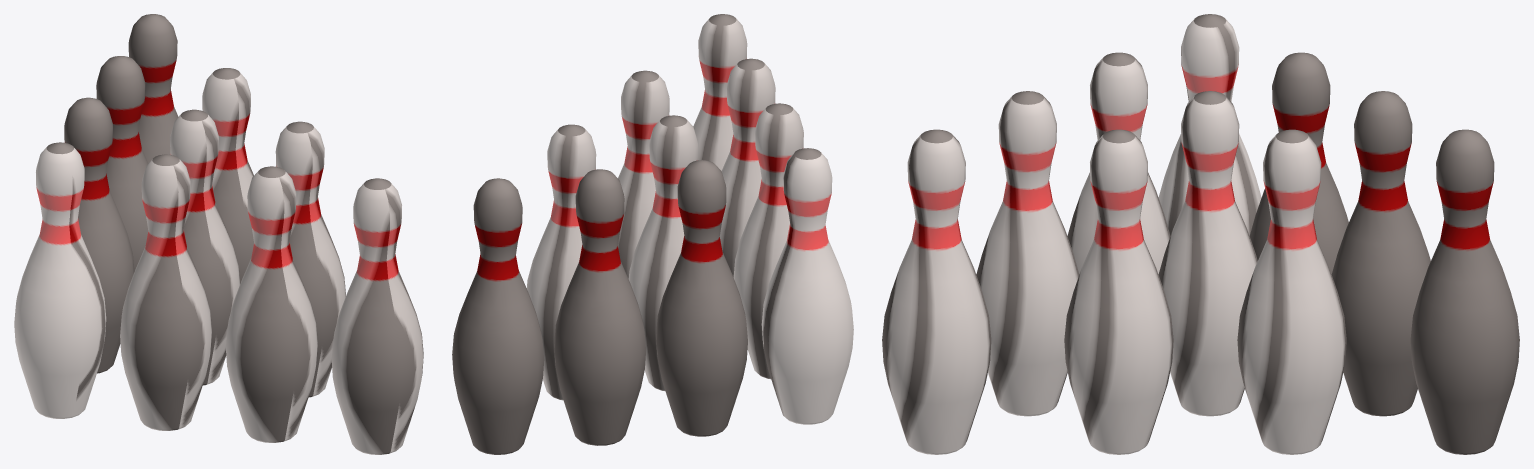
The model's file is SM_BowlingPins.fbx.
The picture shows the model from 3 angles, left to right: view 1: azimuth 30°, elevation 25°; view 2: azimuth 150°, elevation 25°; view 3: azimuth 270°, elevation 25°; orthographic projection. The views are drawn at different scales.
Visible parts, largest first — view 1: SM_BowlingPins_LOD0; view 2: SM_BowlingPins_LOD0; view 3: SM_BowlingPins_LOD0.
Part boxes in pixels (box(x1,y1,x2,y2)): SM_BowlingPins_LOD0: box(14, 14, 423, 454); SM_BowlingPins_LOD0: box(452, 14, 853, 454); SM_BowlingPins_LOD0: box(882, 14, 1519, 454).
Size of the model in its own units: 42 by 70 by 38.
1 material, 1 textured.
